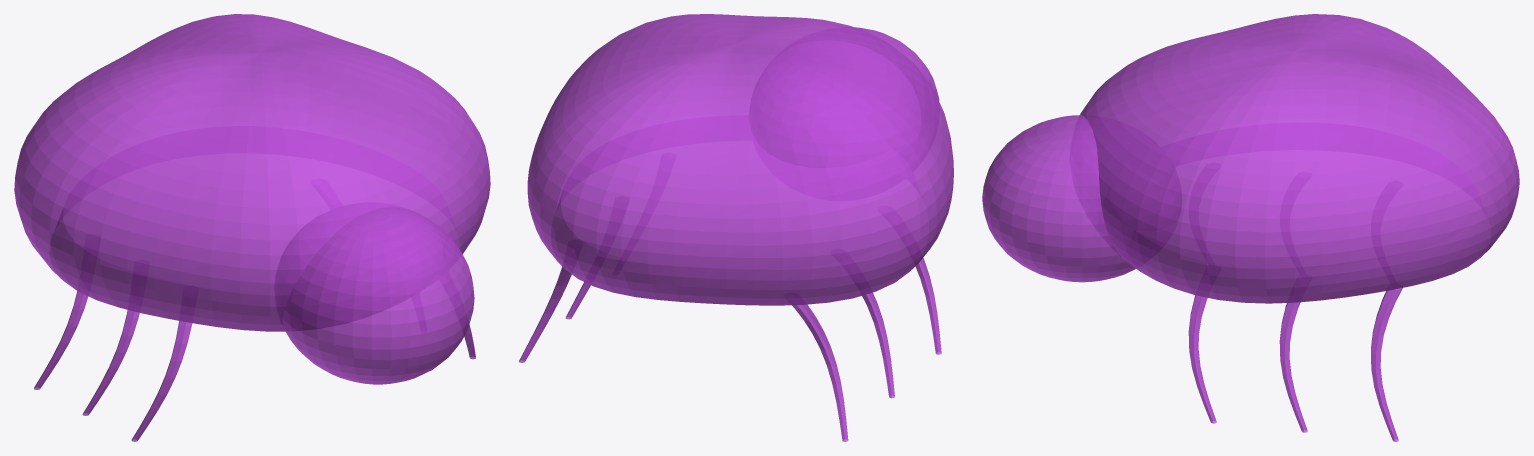
The model's file is ladybug_creature.obj.
The picture shows the model from 3 angles, left to right: view 1: azimuth 30°, elevation 25°; view 2: azimuth 150°, elevation 25°; view 3: azimuth 270°, elevation 25°; orthographic projection. The views are drawn at different scales.
Visible parts, largest first — view 1: ladybug_creature; view 2: ladybug_creature; view 3: ladybug_creature.
Part boxes in pixels (left/top/right/bottom): ladybug_creature: left=14, top=14, right=490, bottom=441; ladybug_creature: left=519, top=14, right=953, bottom=441; ladybug_creature: left=982, top=14, right=1519, bottom=441.
Size of the model in its own units: 2.14 by 1.7 by 2.66.
